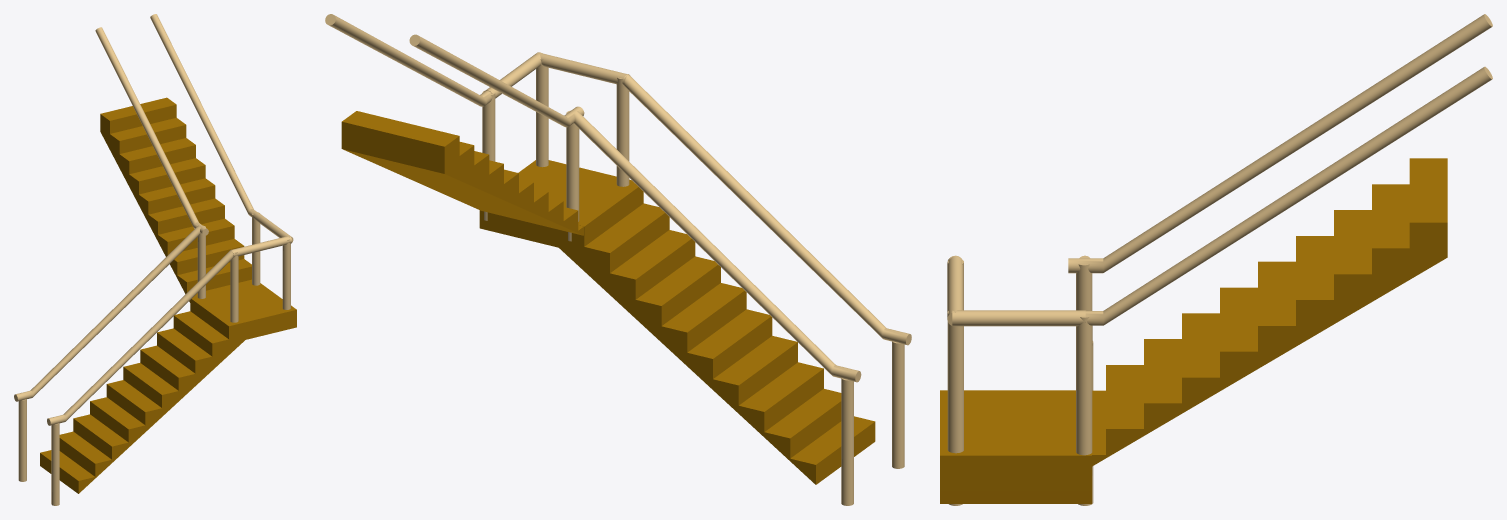
File: stairs.fbx
3 renders of one model, left to right at view 1: azimuth 30°, elevation 25°; view 2: azimuth 150°, elevation 25°; view 3: azimuth 270°, elevation 25°, orthographic. The views are drawn at different scales.
Visible parts, largest first — view 1: pPlane4, pCylinder20; view 2: pPlane4, pCylinder20; view 3: pPlane4, pCylinder20.
Boxes of the visible parts, box(x1,y1,x2,y2) form: pPlane4: box(40, 97, 296, 493); pCylinder20: box(14, 14, 293, 505); pPlane4: box(341, 111, 875, 484); pCylinder20: box(325, 14, 911, 505); pPlane4: box(940, 158, 1447, 503); pCylinder20: box(947, 14, 1492, 505).
Size of the model in its own units: 14.61 by 19.15 by 14.56.
